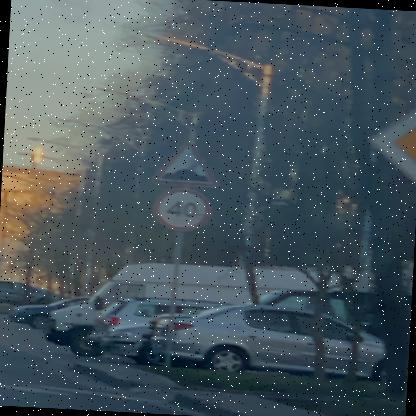speedlimit: (149, 187, 206, 231)
